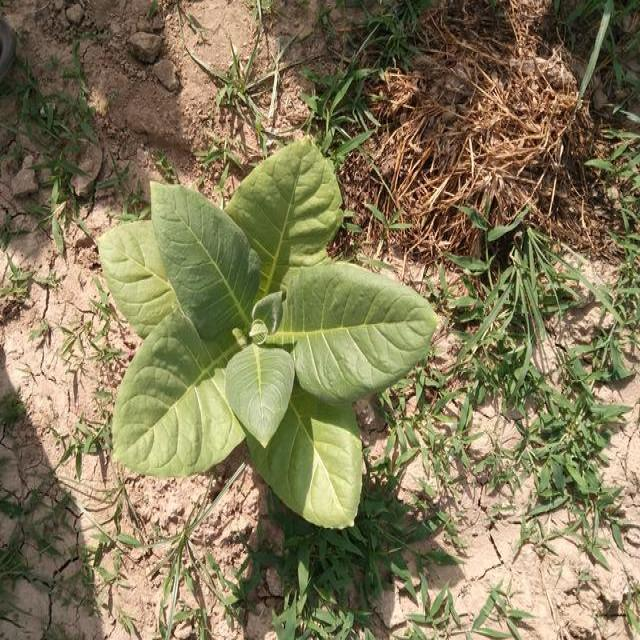crop: (88, 134, 441, 533)
